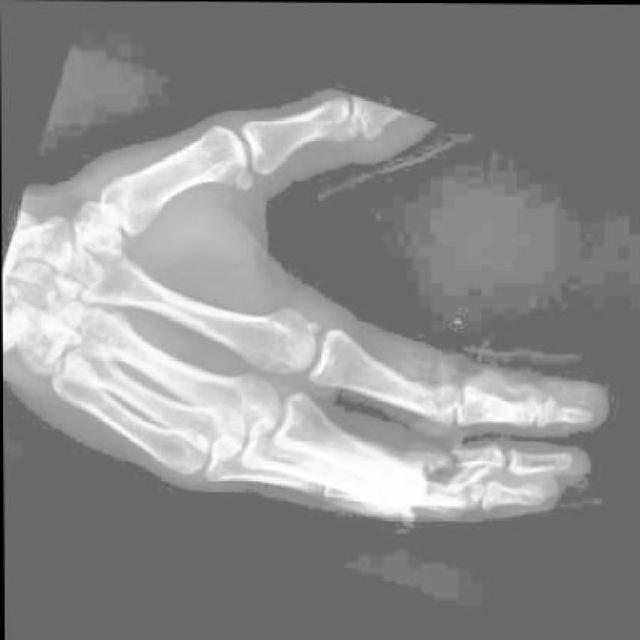Fracture: (416, 434, 492, 504), (471, 388, 525, 436)
